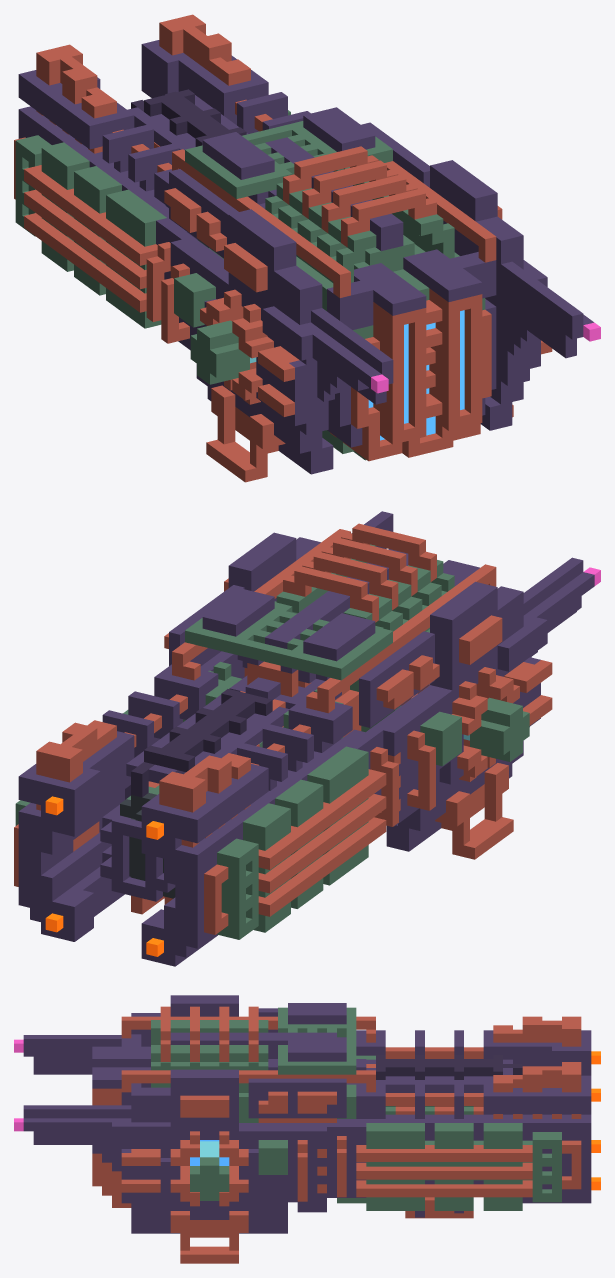
File: oracle-core.glb
3 views of the same model, one above another, from view 1: azimuth 30°, elevation 25°; view 2: azimuth 150°, elevation 25°; view 3: azimuth 270°, elevation 25° (orthographic). The views are drawn at different scales.
Parts seen in each view (by area): view 1: 1; view 2: 1; view 3: 1.
Part boxes in pixels (bbox=[...]): 1: bbox=[14, 14, 600, 482]; 1: bbox=[14, 511, 600, 966]; 1: bbox=[14, 995, 600, 1263].
Size of the model in its own units: 28 by 22 by 60.
9 materials, 9 textured.
